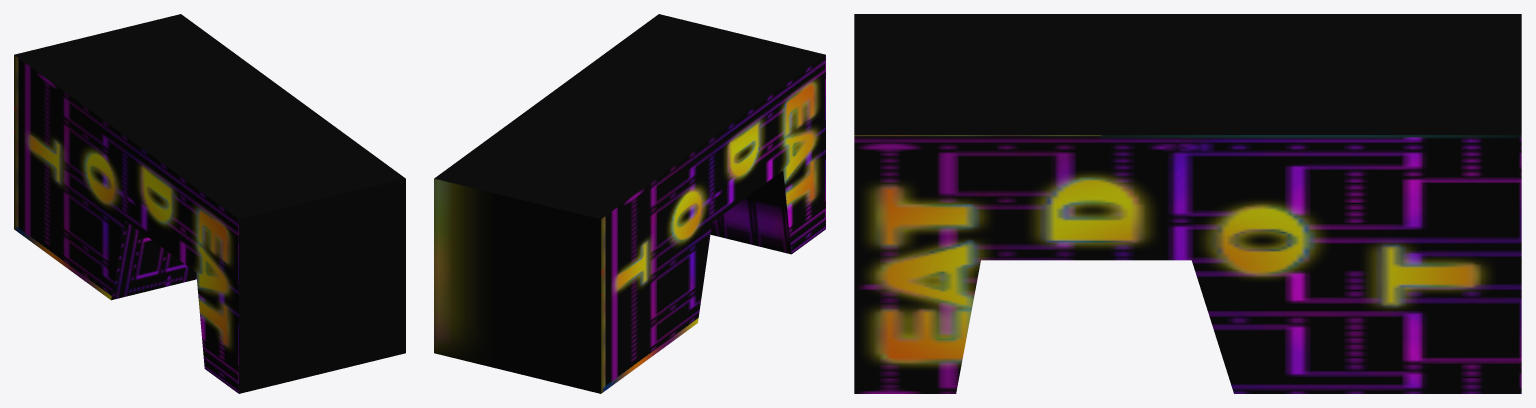
File: arcadegame2_wtf.obj
The picture shows the model from 3 angles, left to right: view 1: azimuth 30°, elevation 25°; view 2: azimuth 150°, elevation 25°; view 3: azimuth 270°, elevation 25°; orthographic projection. The views are drawn at different scales.
Parts seen in each view (by area): view 1: group2; view 2: group2; view 3: group2.
Boxes of the visible parts, bbox=[...] form: group2: bbox=[14, 14, 405, 393]; group2: bbox=[434, 14, 825, 393]; group2: bbox=[854, 14, 1521, 393].
Size of the model in its own units: 283 by 283 by 660.
